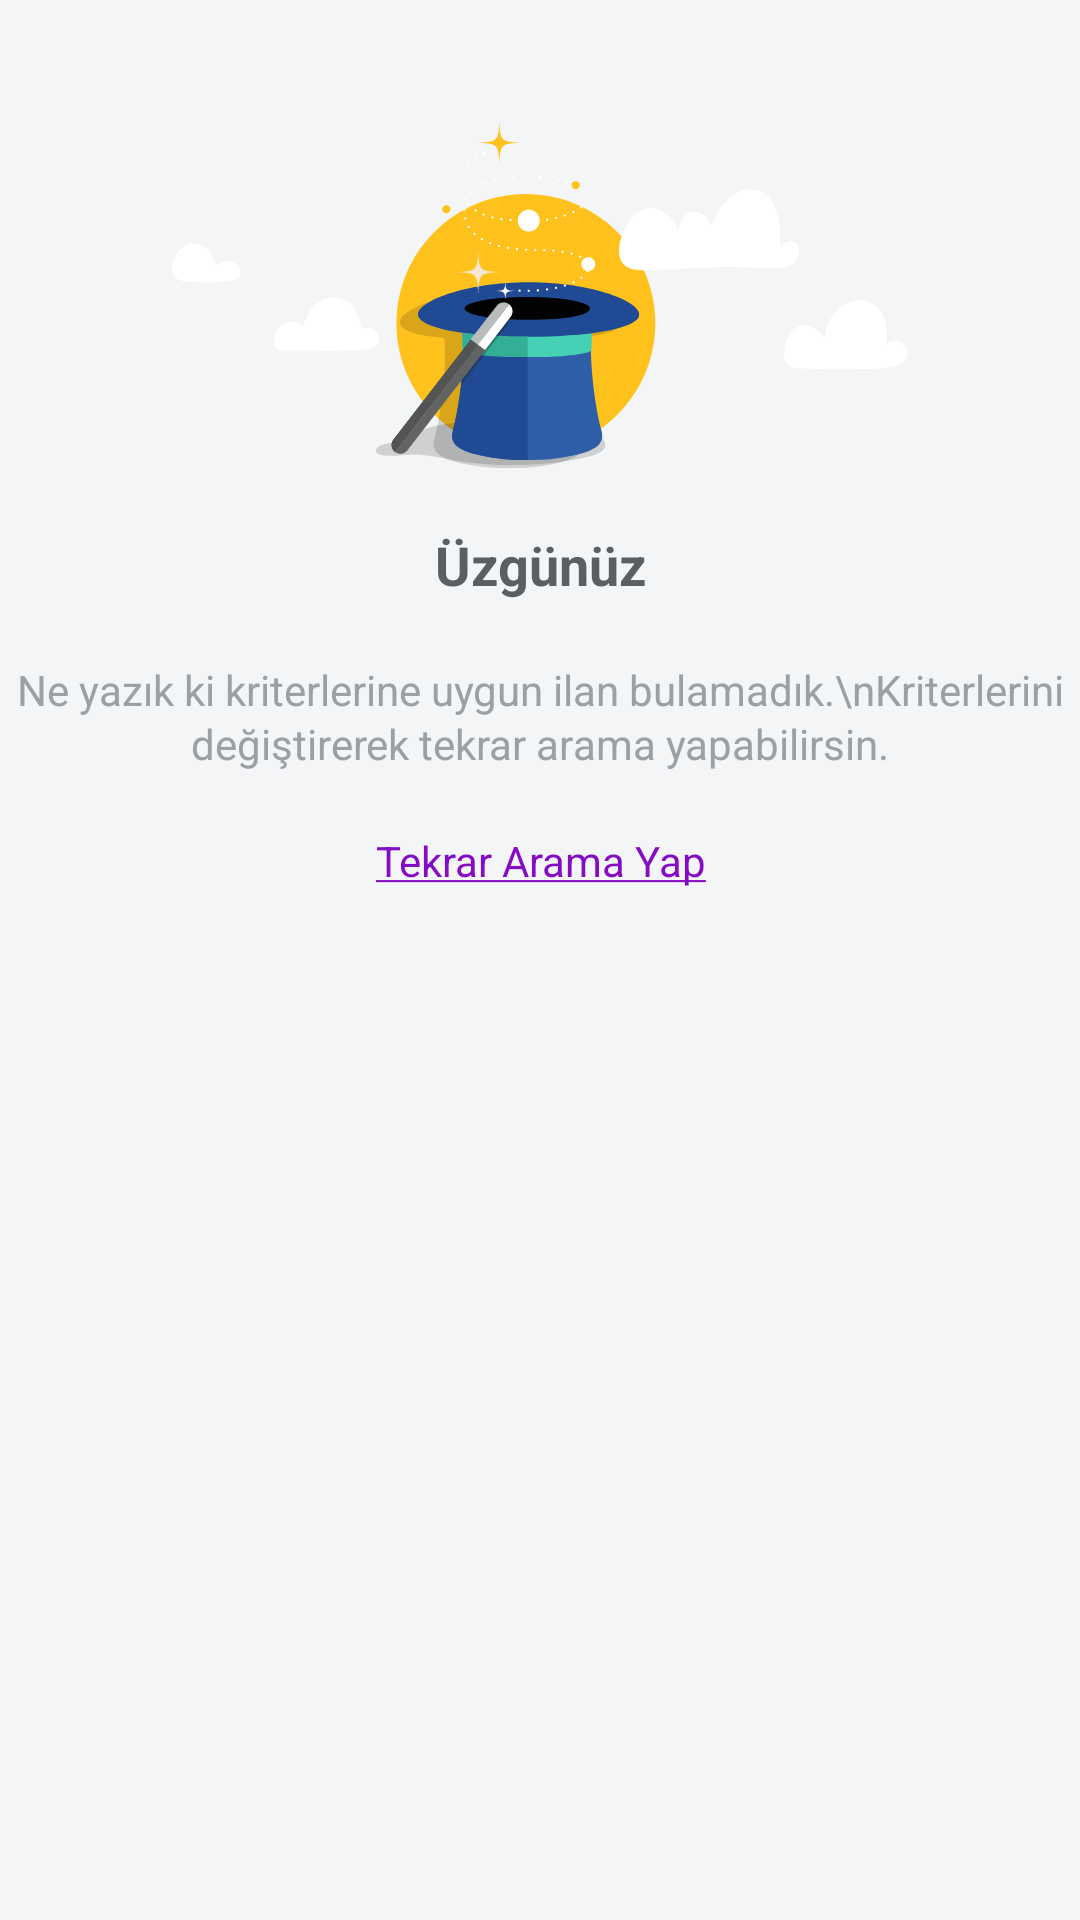

Where icons sit on this 1080×1920 app screen, as (x1, y1, x2, y2):
no result: (376, 122, 656, 468)
